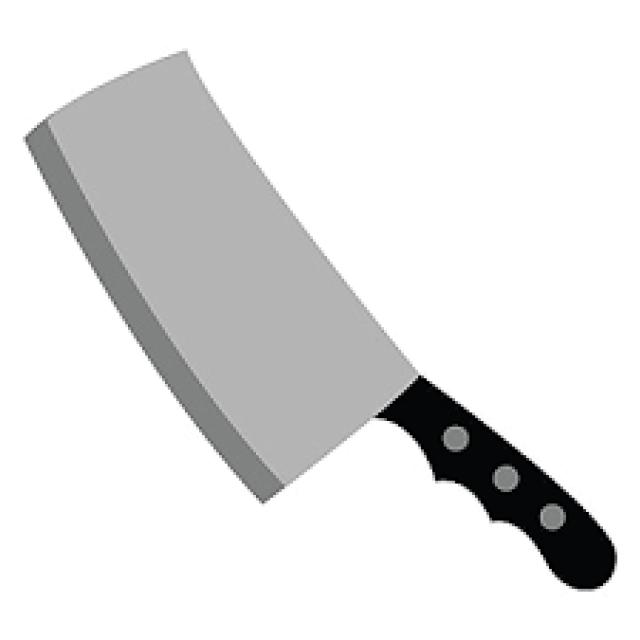Knife: (23, 45, 617, 589)
